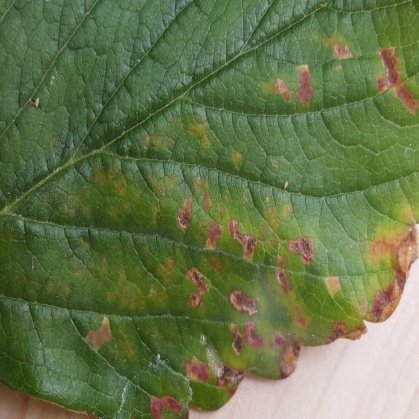Angular_LS: (0, 0, 417, 304), (0, 87, 413, 392)
